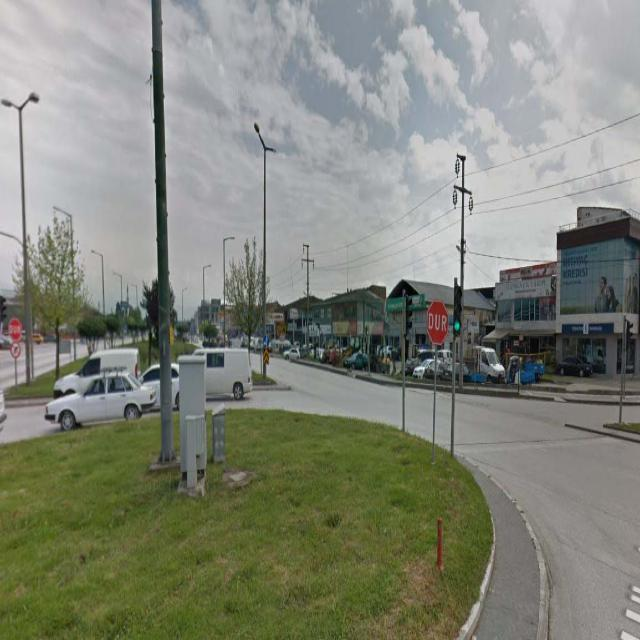dur: (427, 299, 448, 344), (8, 317, 21, 340)
sagadonulmez: (10, 341, 20, 358)
yesil: (454, 286, 462, 337)
